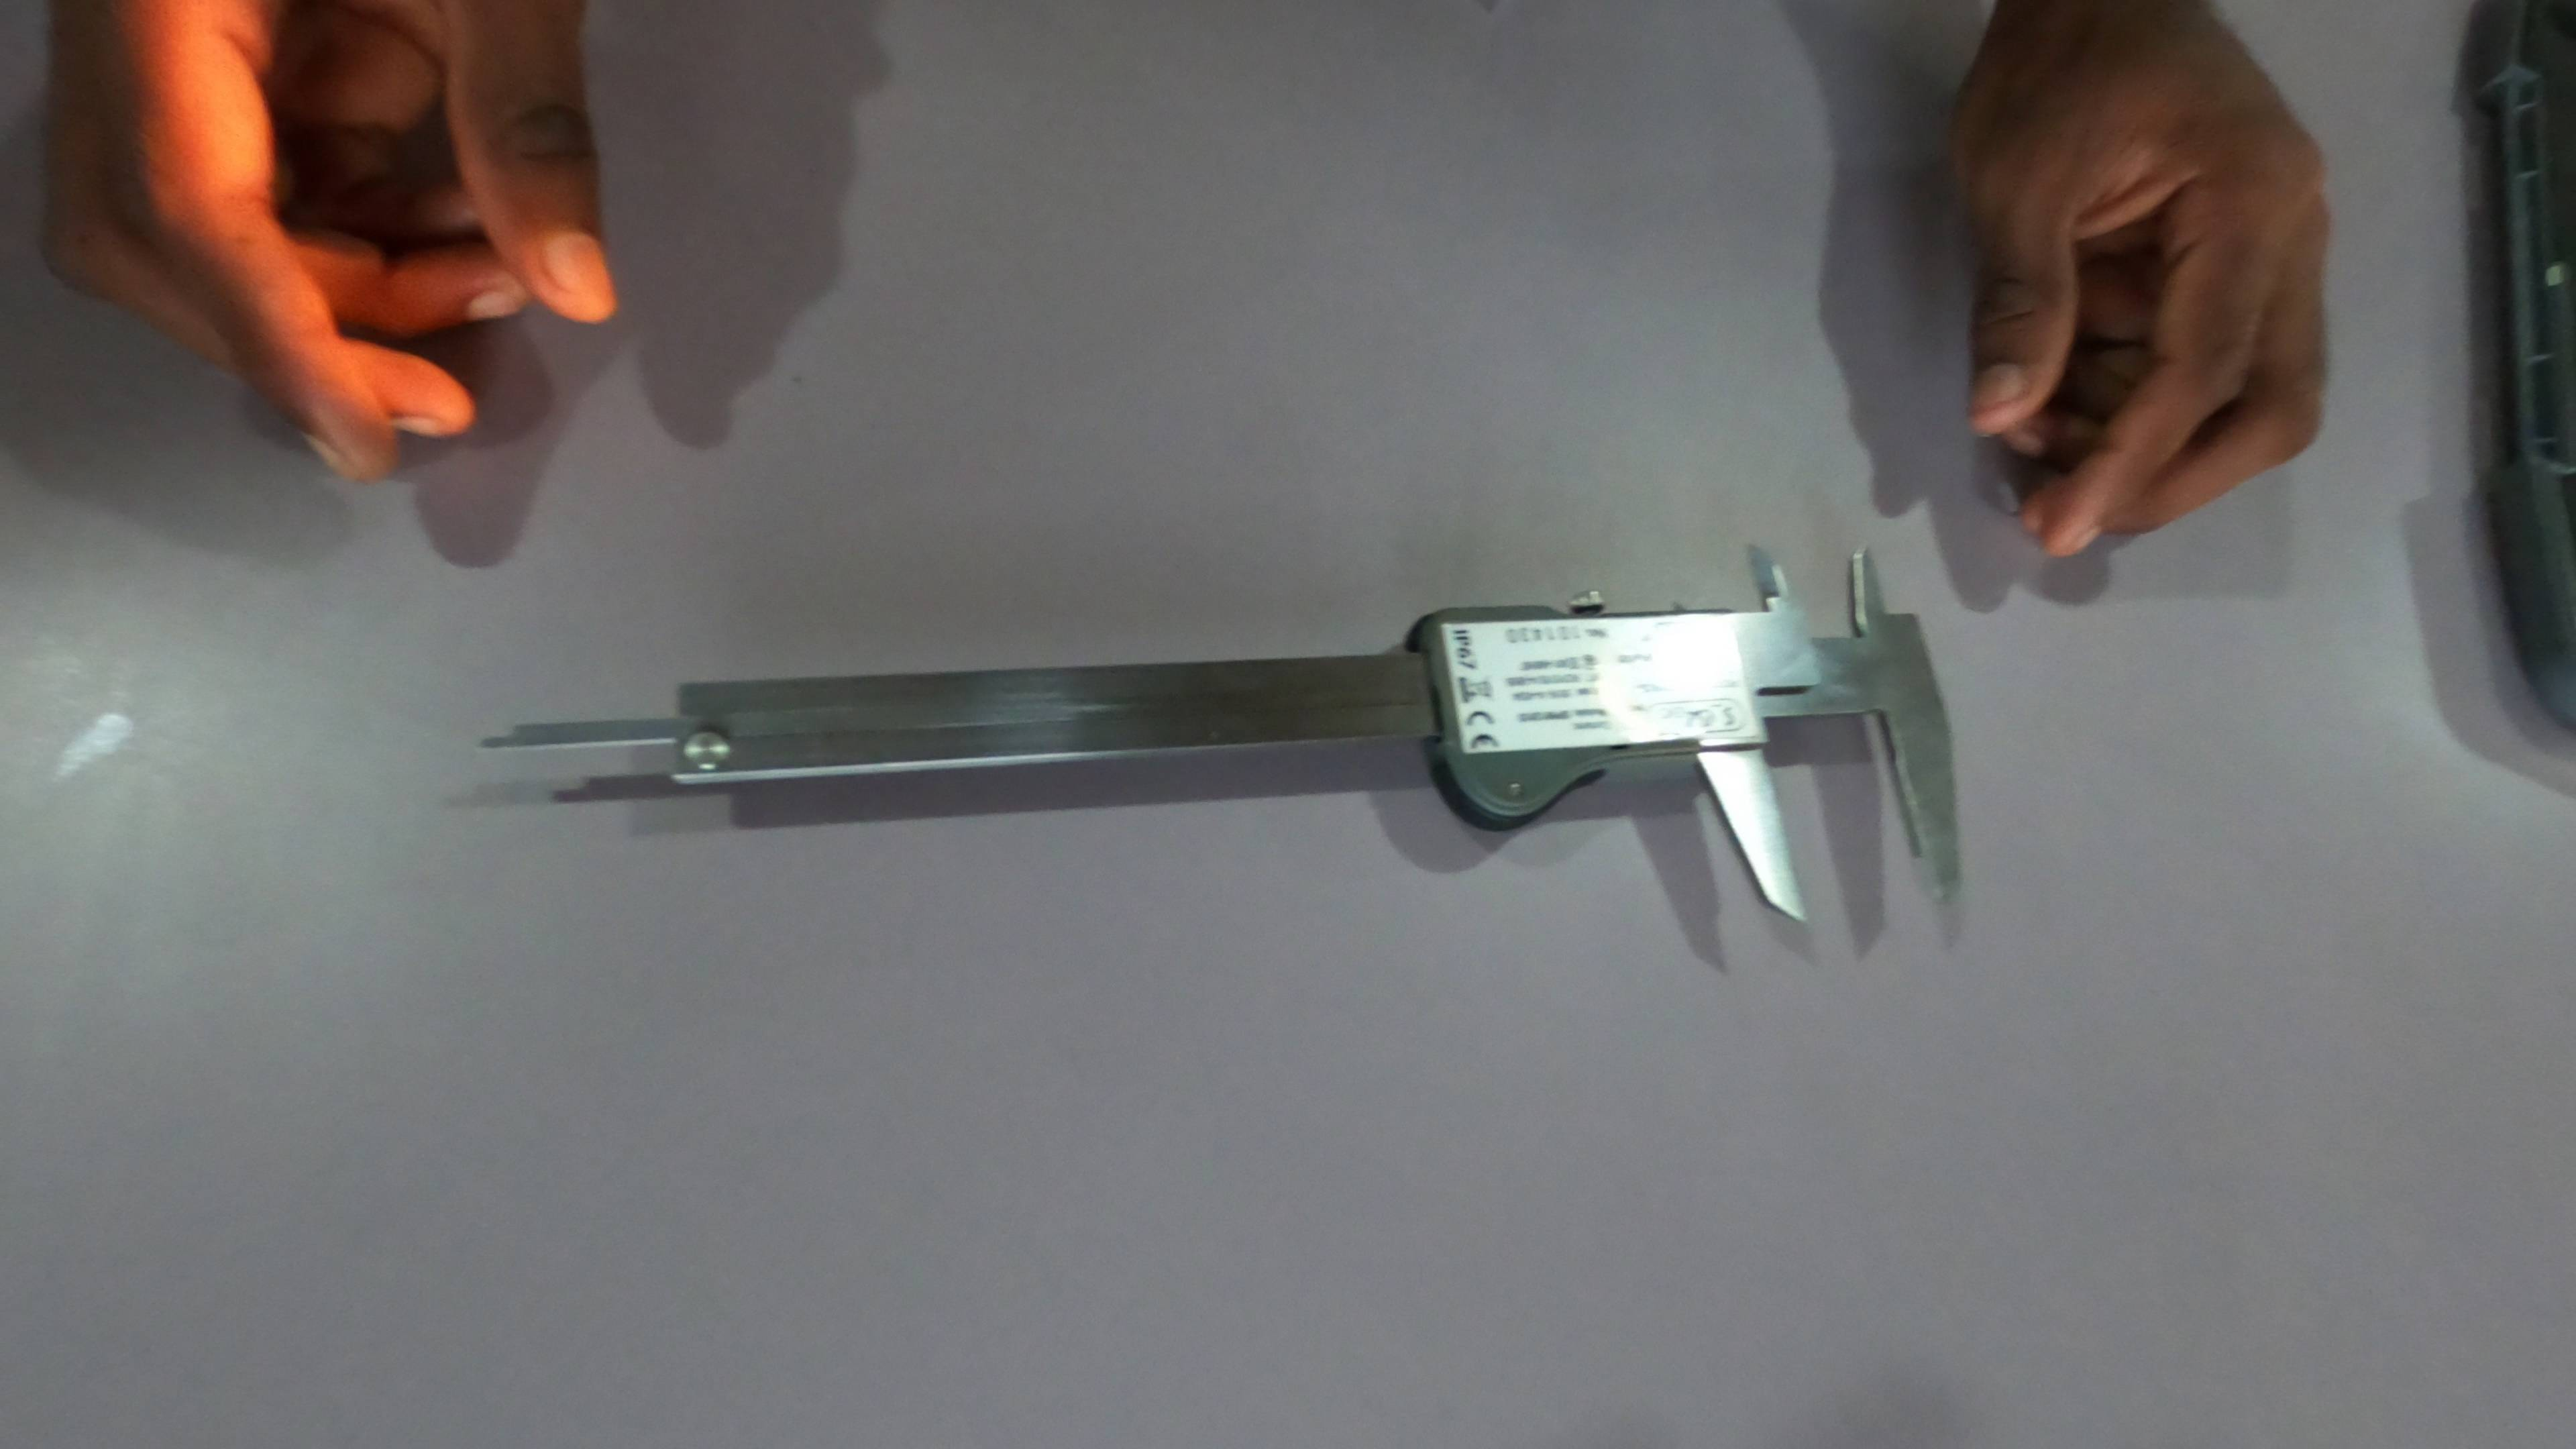vernier_caliper: (479, 541, 1966, 915)
